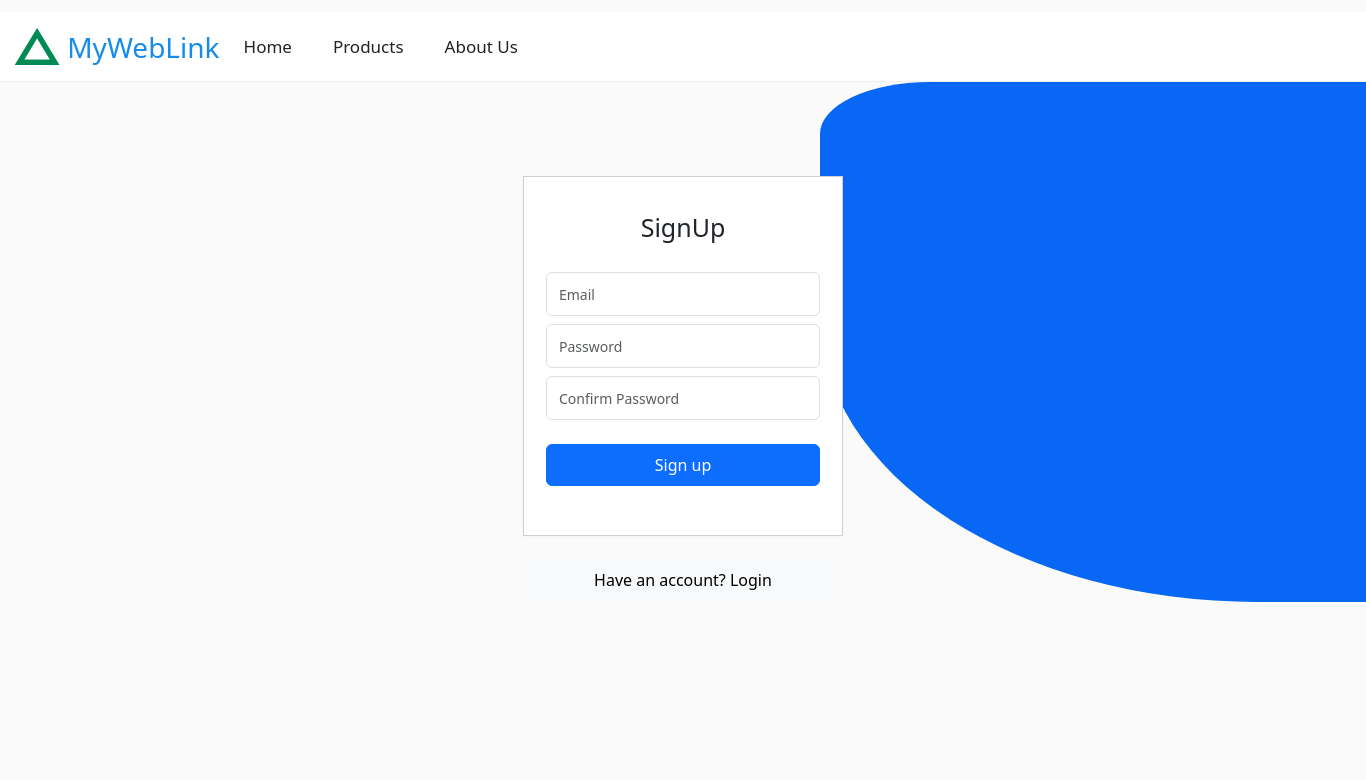
Test: Signup Component › shows error when password is less than 6 characters
Type "test@gmail.com" into the field with placeholder "Email" at (683, 294), box [546,272,820,316]
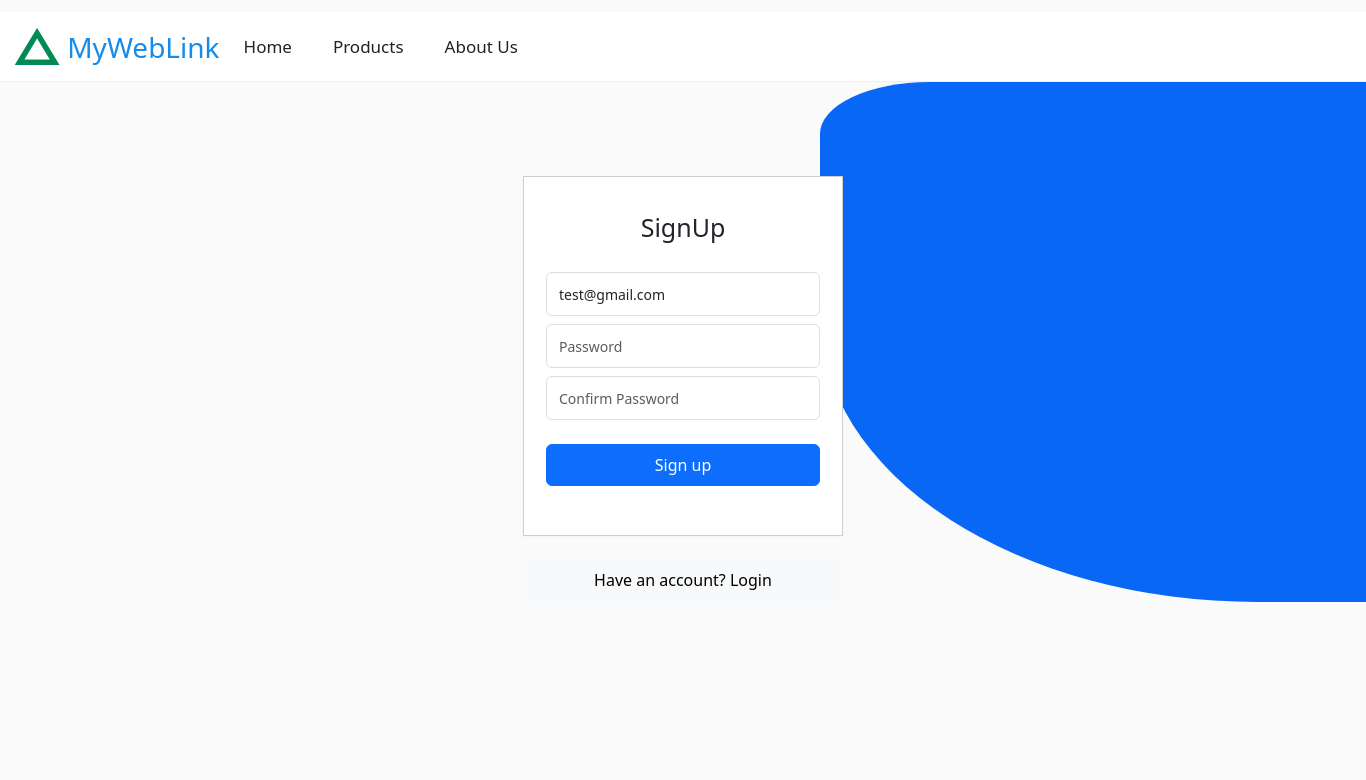
Type "12345" into the password field with placeholder "Password" at (683, 346), box [546,324,820,368]
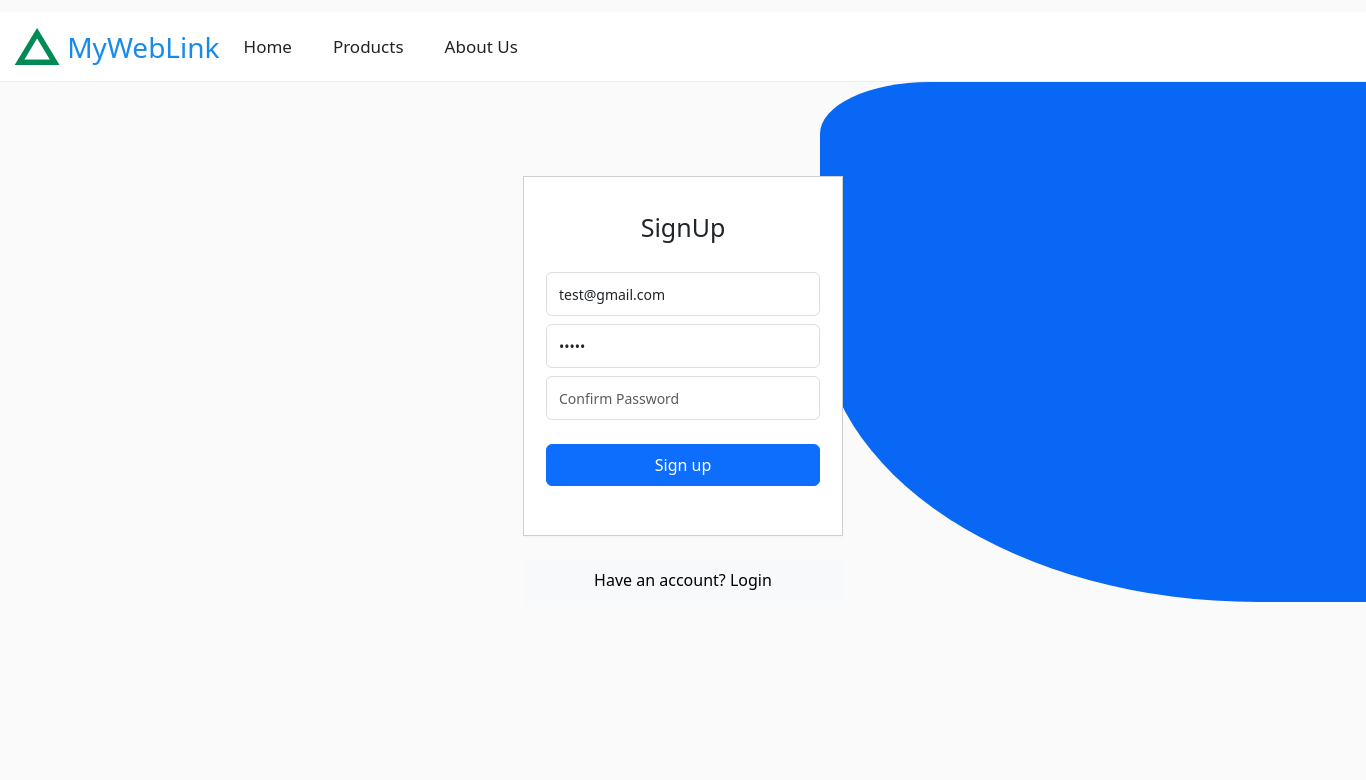
Type "12345" into the password field with placeholder "Confirm Password" at (683, 398), box [546,376,820,420]
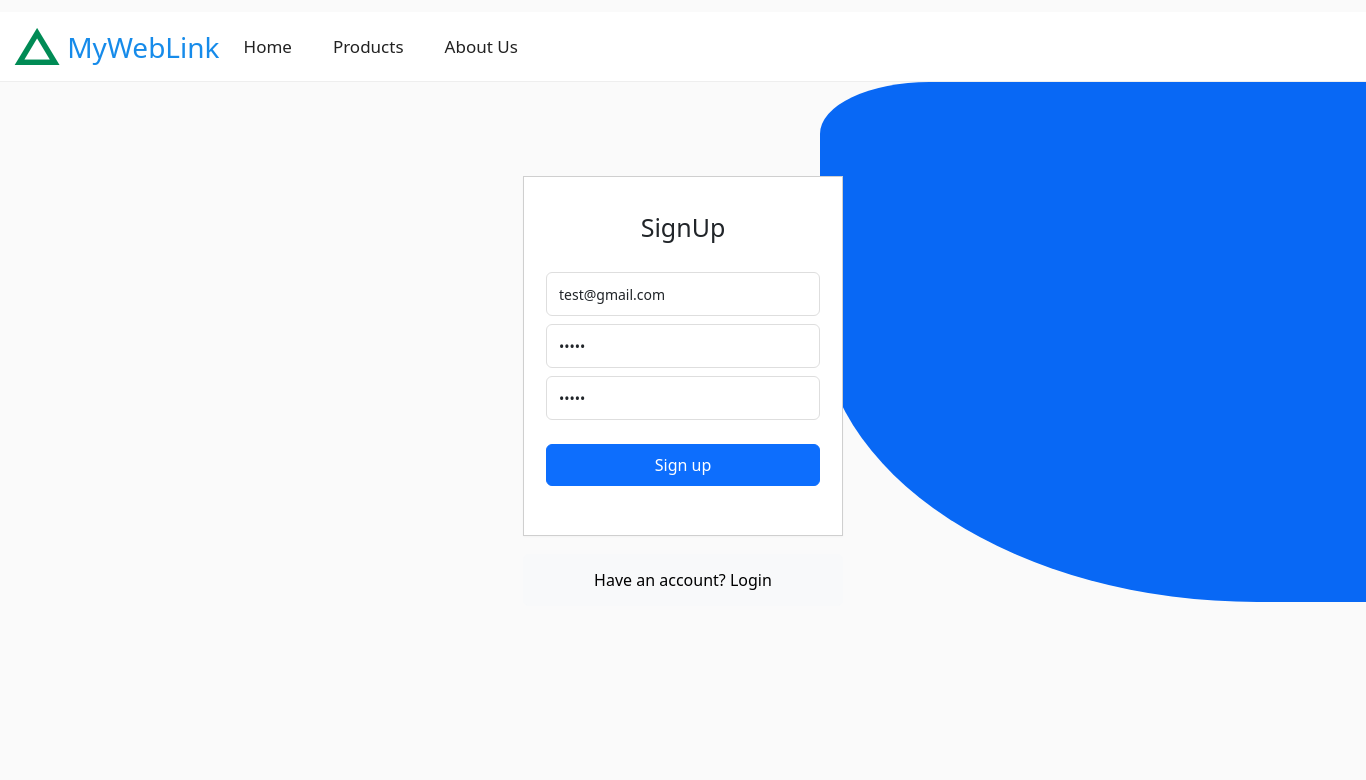
Click the button "Sign up" at (683, 465), box [546,444,820,486]
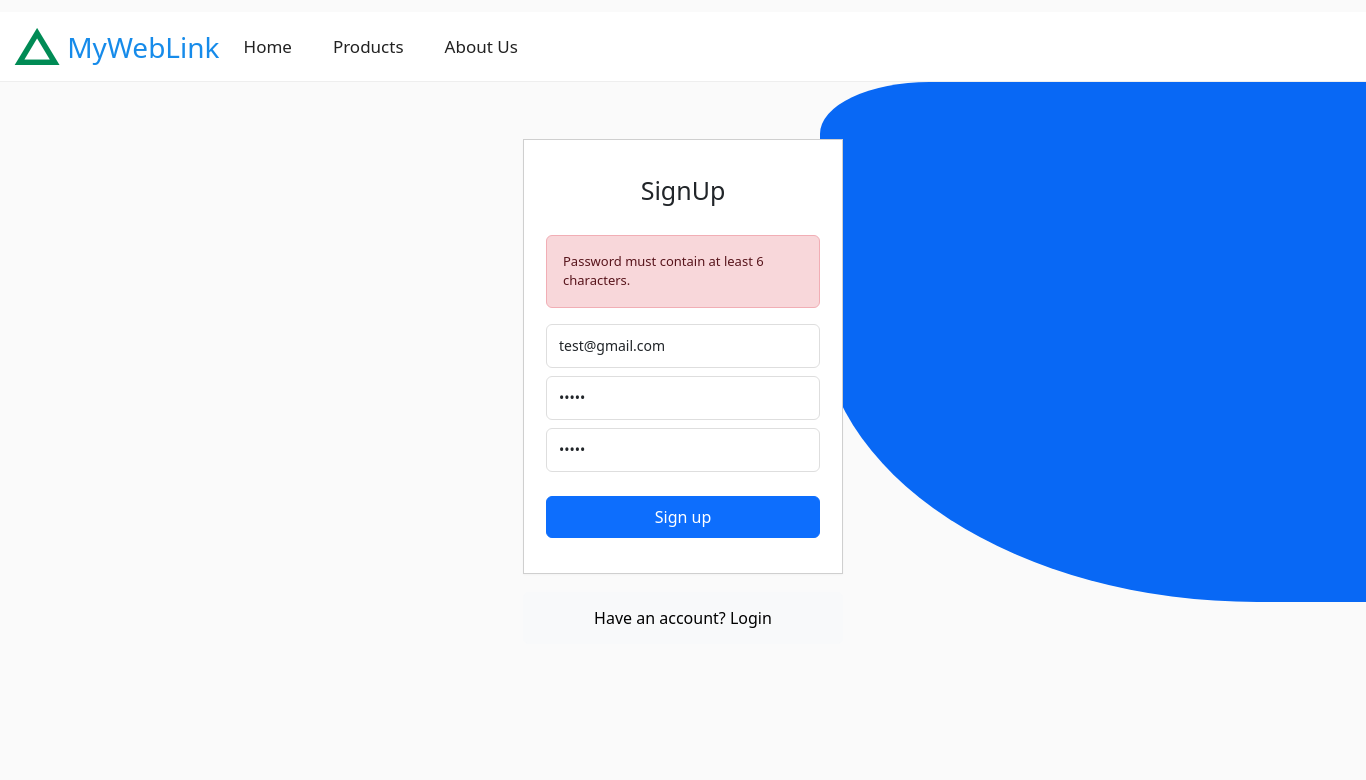
Expected: the text "Password must contain at least 6 characters." is shown, [546,234,820,308]
